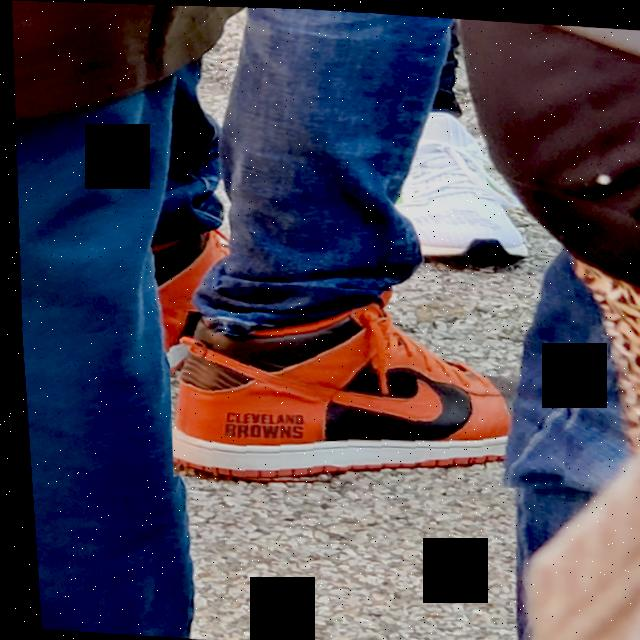shoe: (156, 275, 578, 499)
